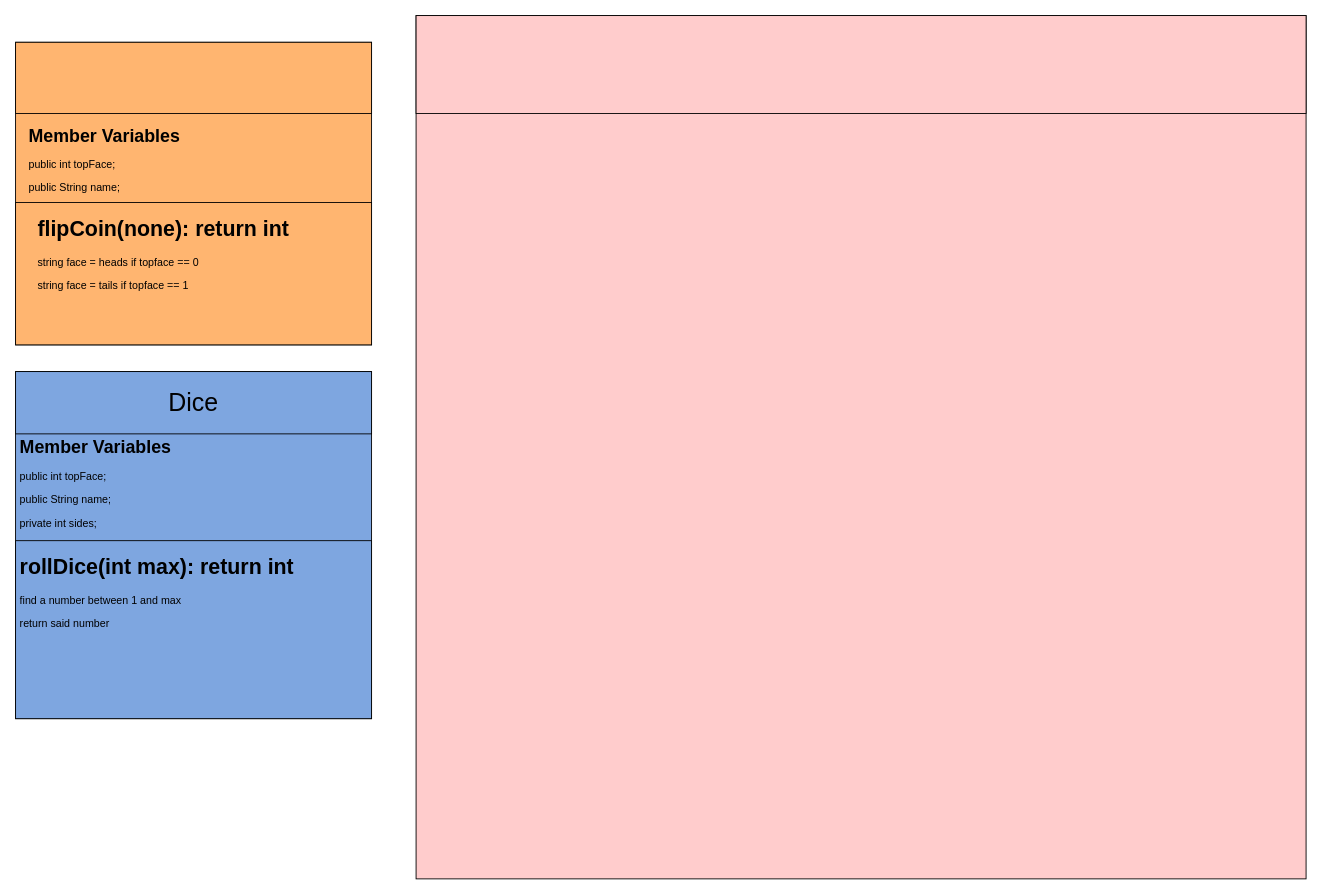
The diagram is 1322 pixels wide and 894 high, and some of its shapes have lost their labels. The box of each missing label's shape, as (x1, y1, x2, y2) in pixels:
Chance Land: (415, 15, 1306, 113)
Coin: (15, 41, 372, 113)
